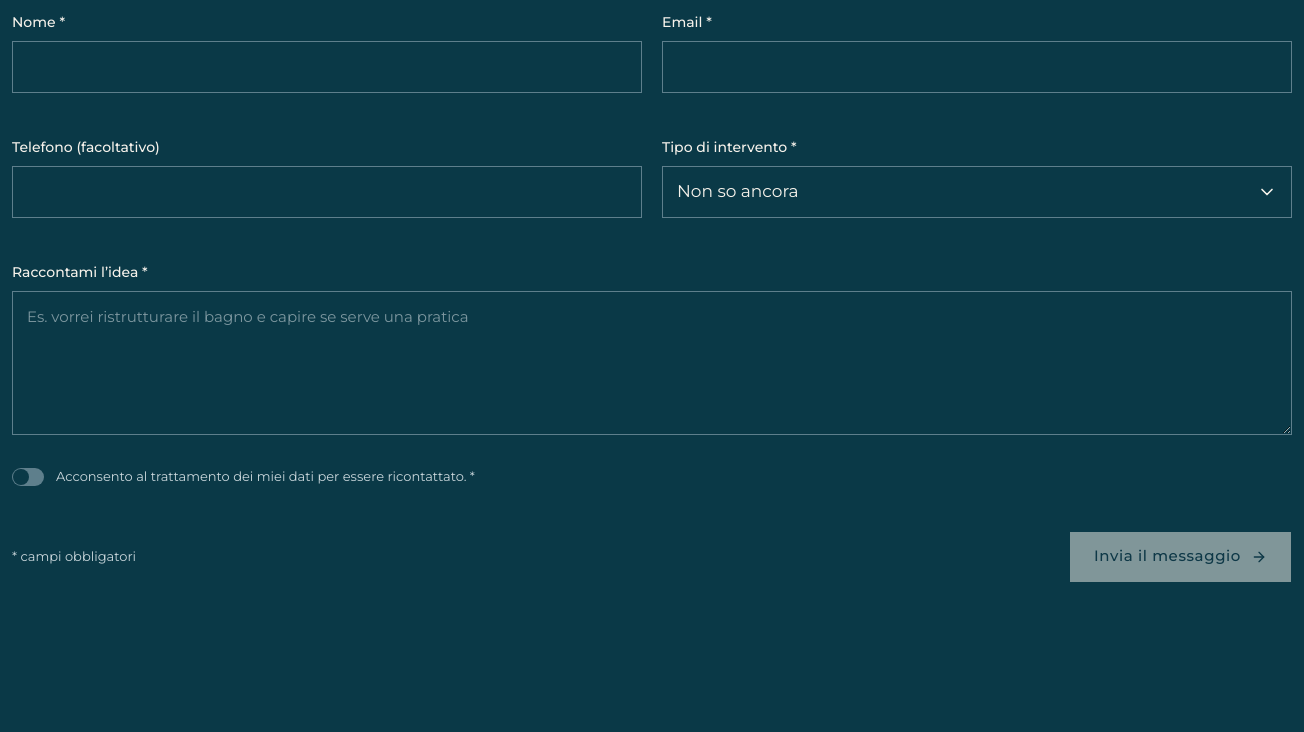
it: ContactForm › submits a valid form and thanks the visitor by name
Type "Mario Bianchi" into the field labelled "Nome *".
click(327, 67); type("Mario Bianchi")  # box x1=12 y1=41 x2=642 y2=93
Type "mario@example.com" into the field labelled "Email *".
click(977, 67); type("mario@example.com")  # box x1=662 y1=41 x2=1292 y2=93
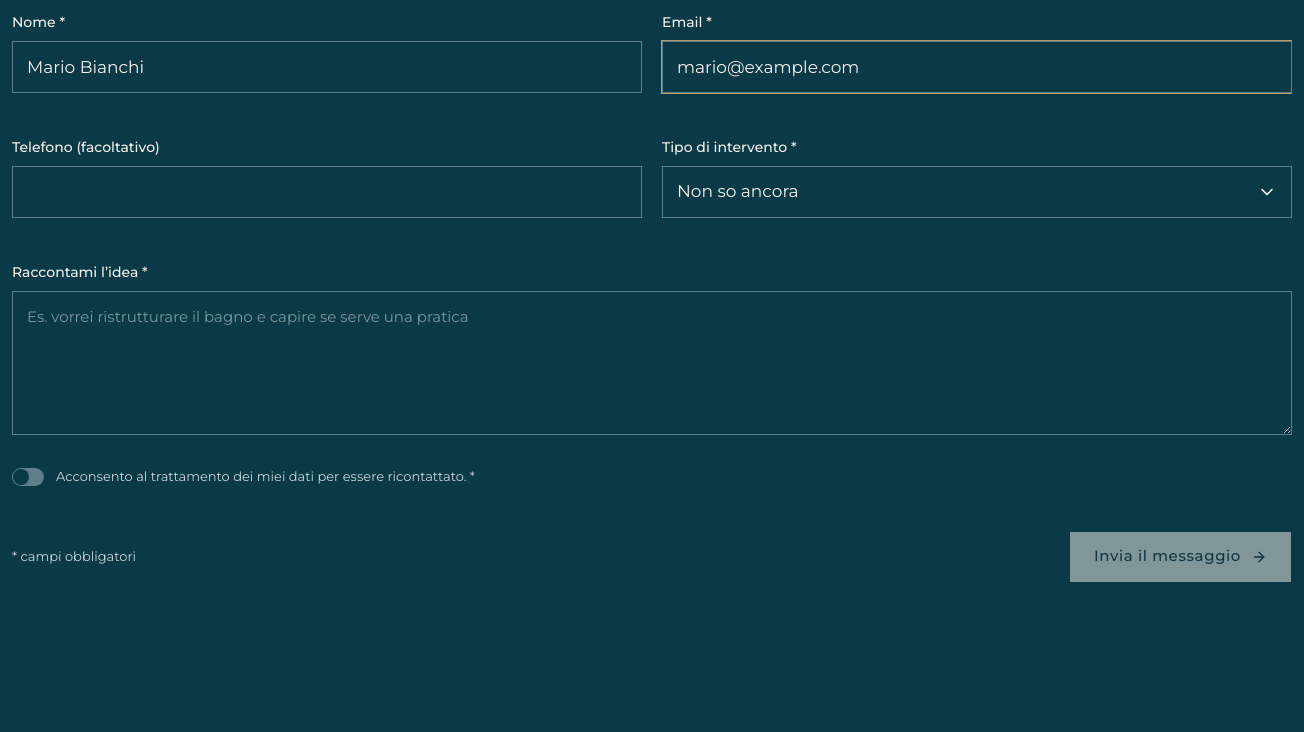
Click the dropdown named "Tipo di intervento *".
click(738, 191)  # box x1=662 y1=166 x2=1292 y2=218
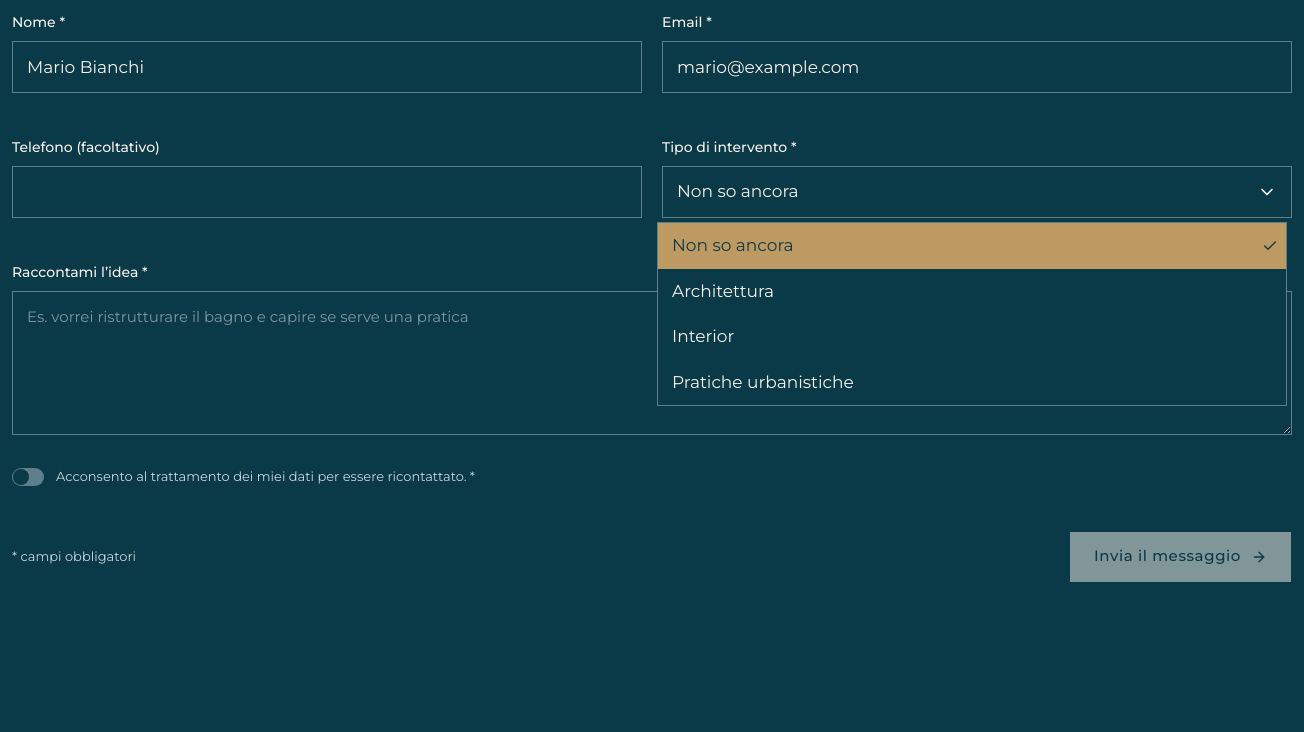
Click the option "Pratiche urbanistiche".
click(763, 382)  # box x1=672 y1=372 x2=854 y2=392
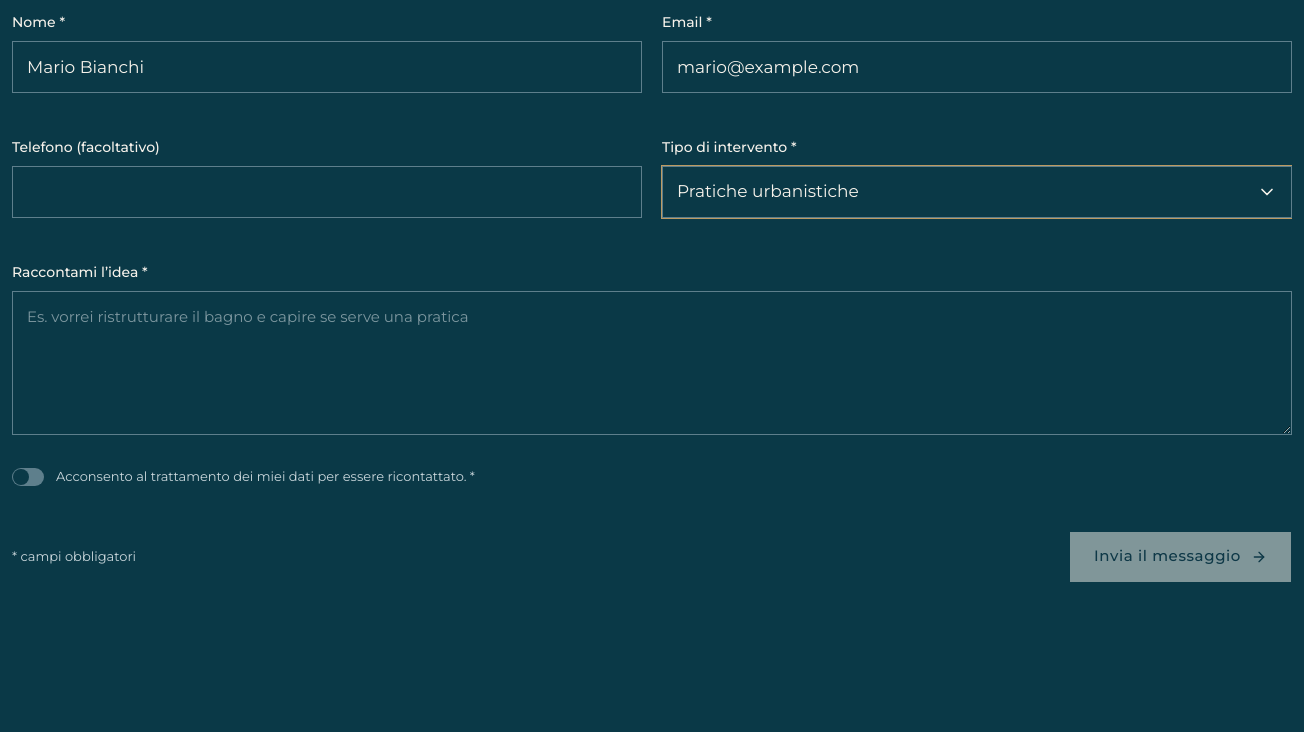
Type "Vorrei ristrutturare il bagno." into the text box labelled "Raccontami l’idea *".
click(652, 363); type("Vorrei ristrutturare il bagno.")  # box x1=12 y1=291 x2=1292 y2=435
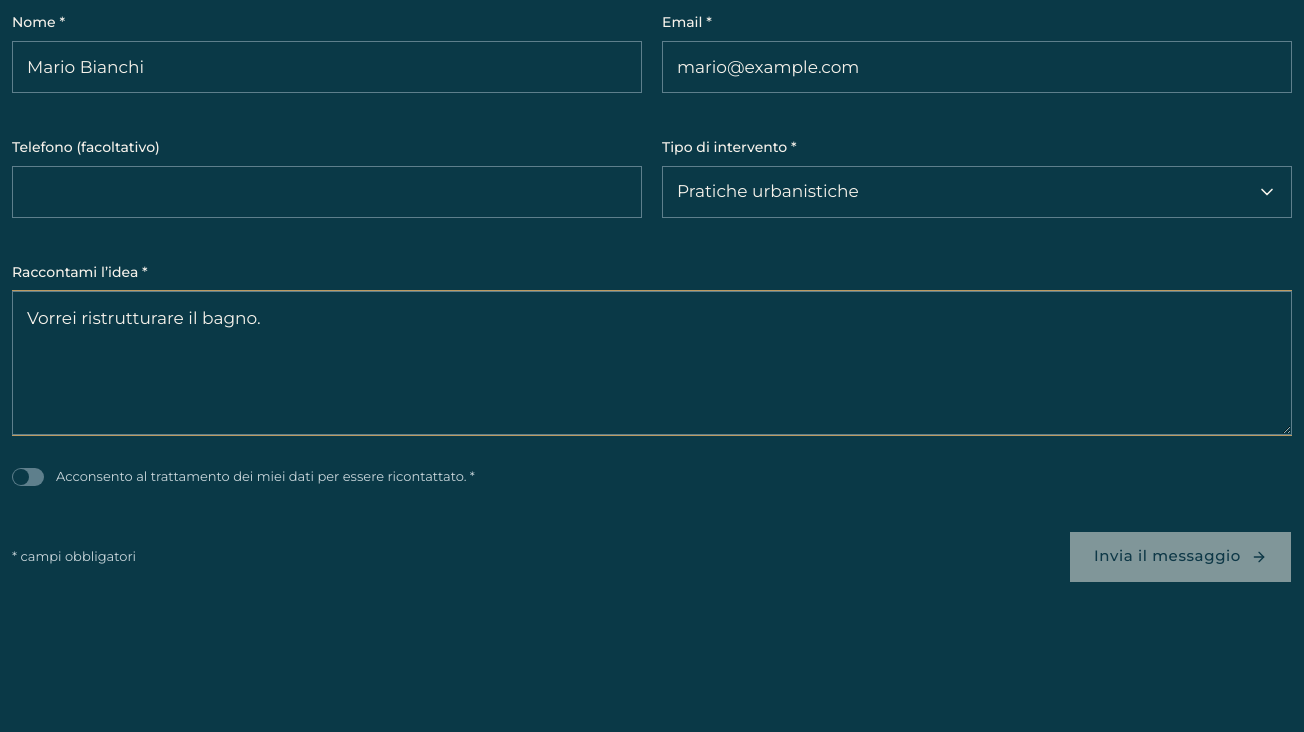
Click the switch named "trattamento dei miei dati".
click(28, 477)  # box x1=12 y1=468 x2=44 y2=486
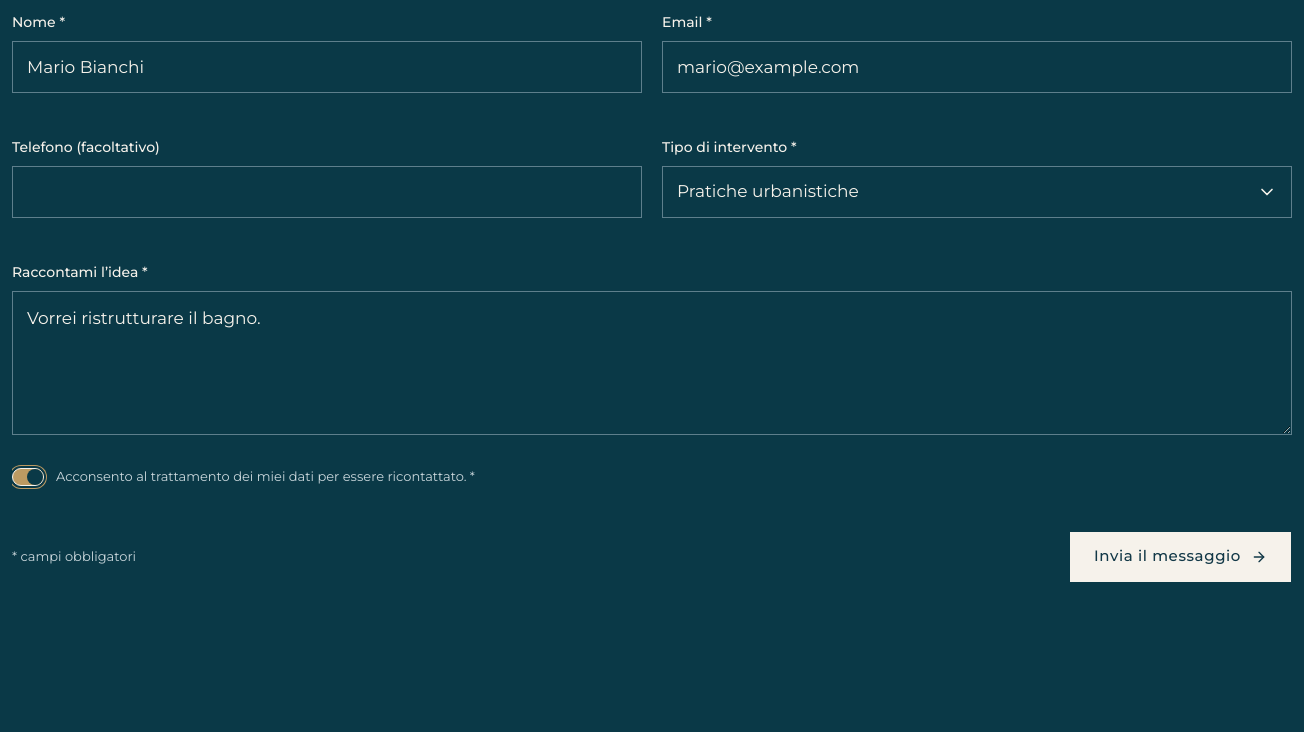
Click the button "Invia il messaggio".
click(1180, 556)  # box x1=1069 y1=530 x2=1292 y2=582
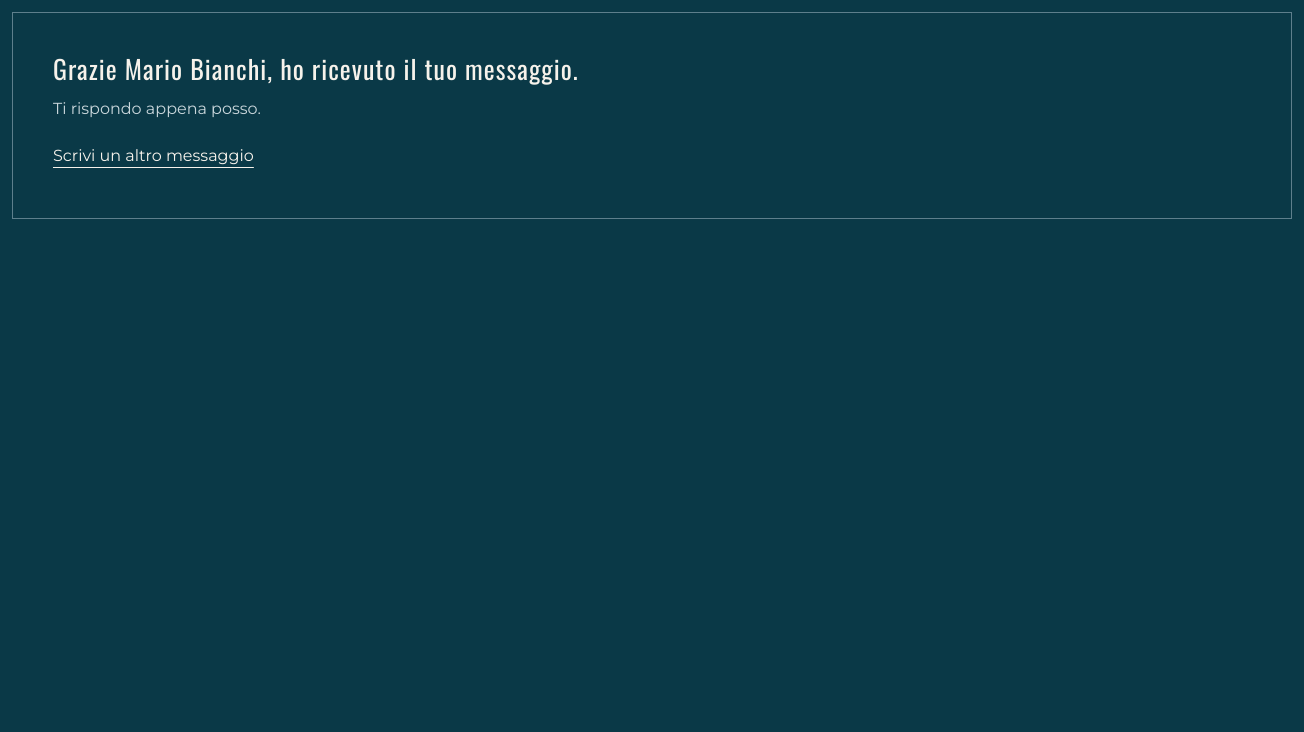
Expected: the message shows "Grazie Mario Bianchi, ho ricevuto il tuo messaggio.", x1=12 y1=12 x2=1292 y2=219
Expected: the button "Invia il messaggio" is gone
